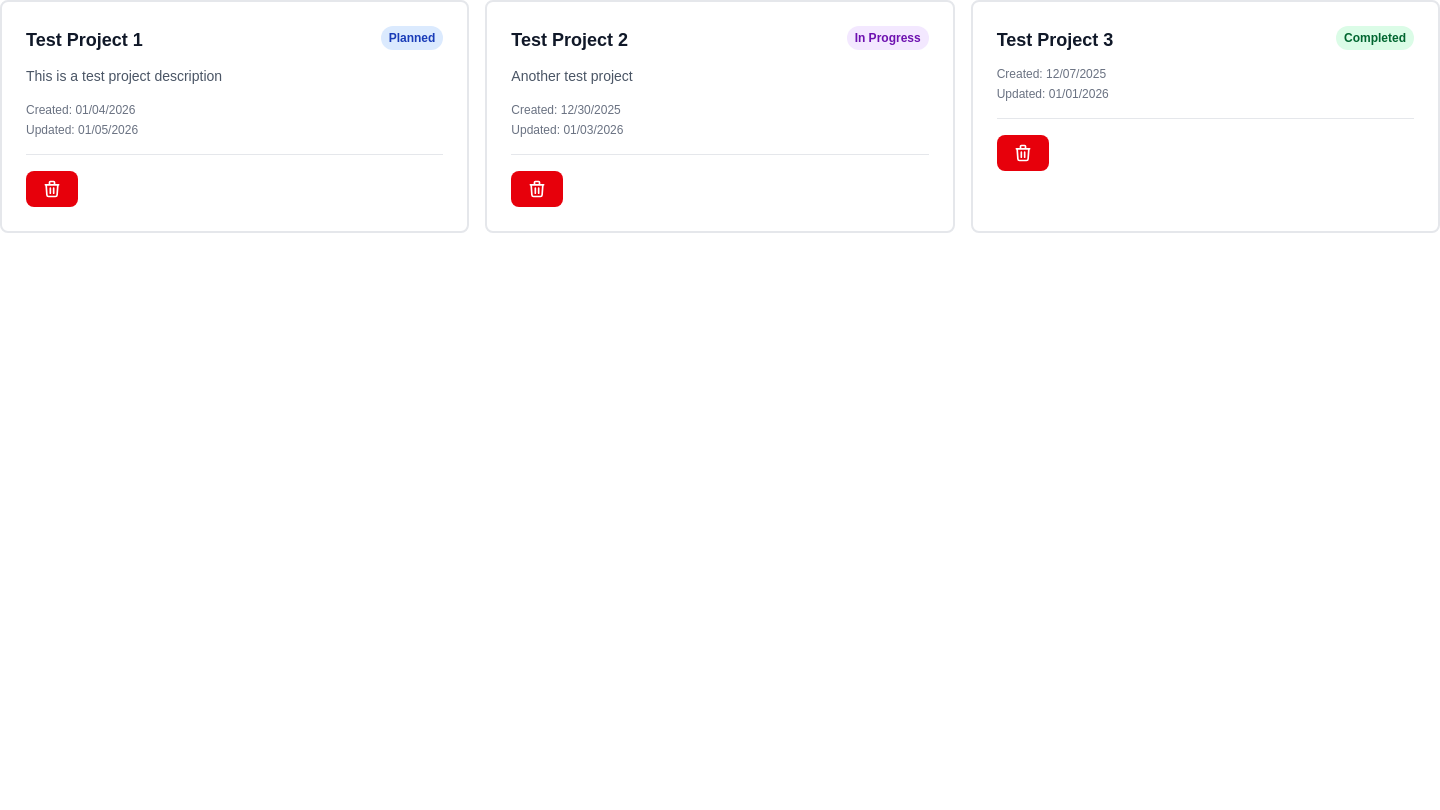
Test: ProjectList › Project Deletion › removes deleted project from list
This screenshot has width=1440, height=810.
expect the heading "Test Project 1" is shown: met, box [26,30,143,50]
Click the button named "delete project test project 1". click: (52, 189)
box: [26,171,78,207]
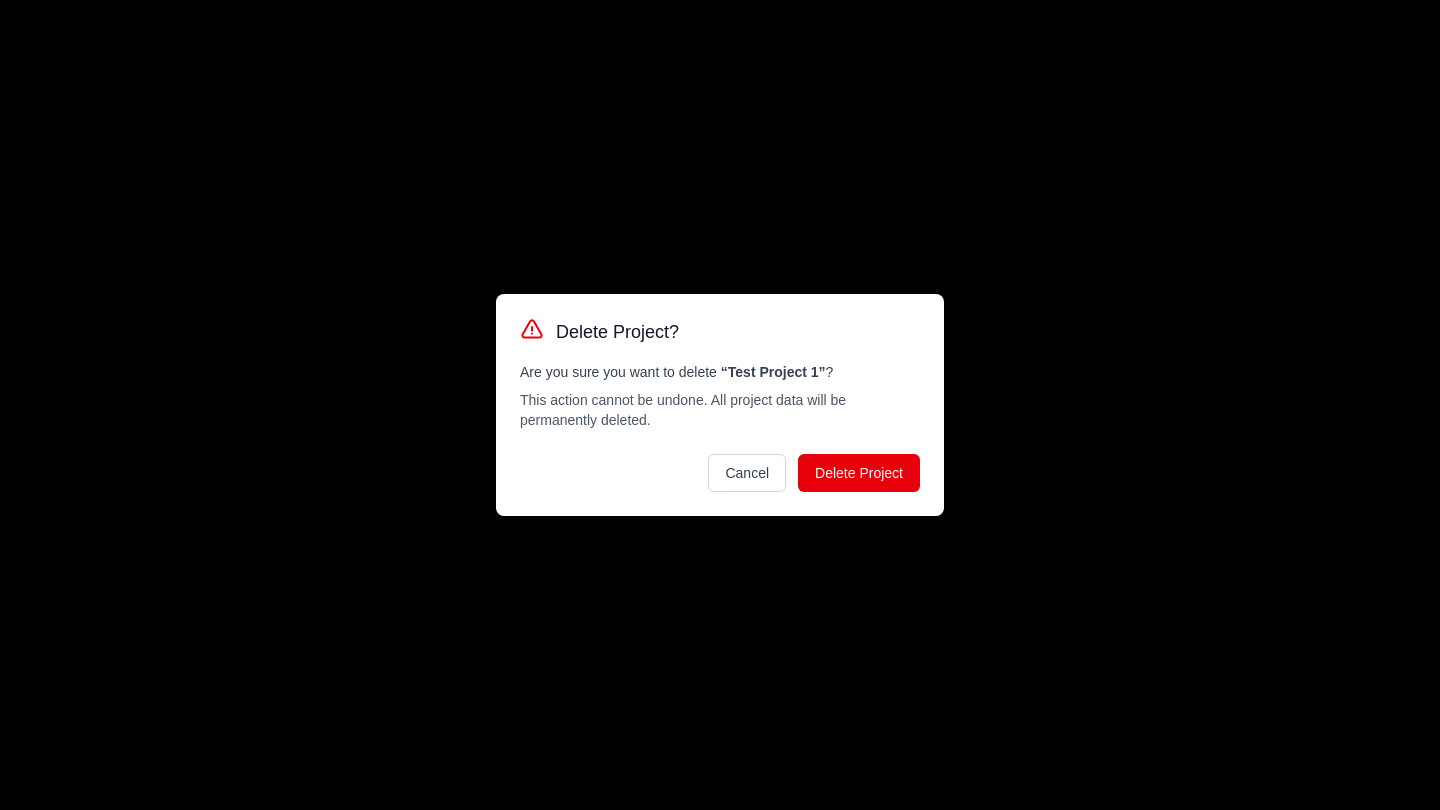
expect the heading "Delete Project?" is shown: met, box [556,322,679,342]
Click the button with aria-label "confirm delete test project 1". click: (859, 473)
box: [798,454,920,492]
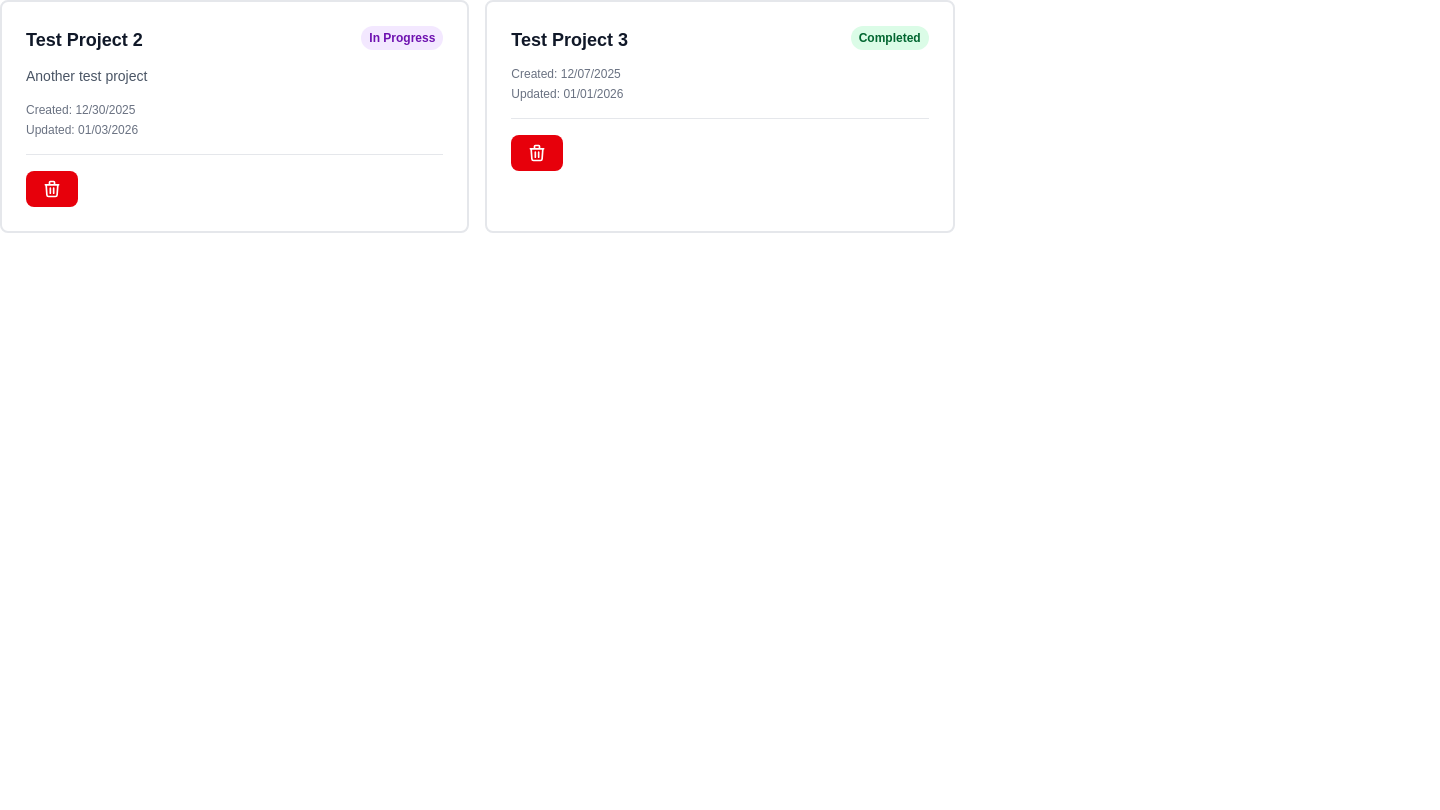
expect the button "Test Project 1" is gone: met
